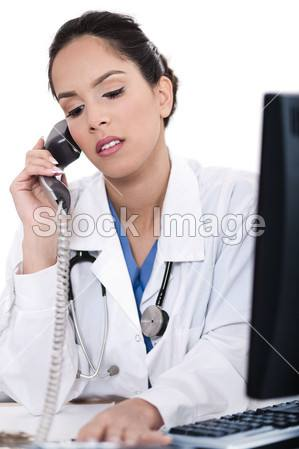phone: (29, 118, 75, 226)
talk: (7, 59, 156, 240)
